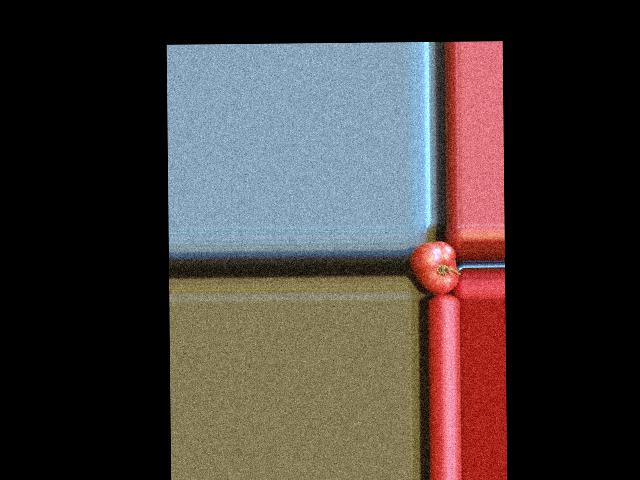tomato: (409, 241, 458, 294)
